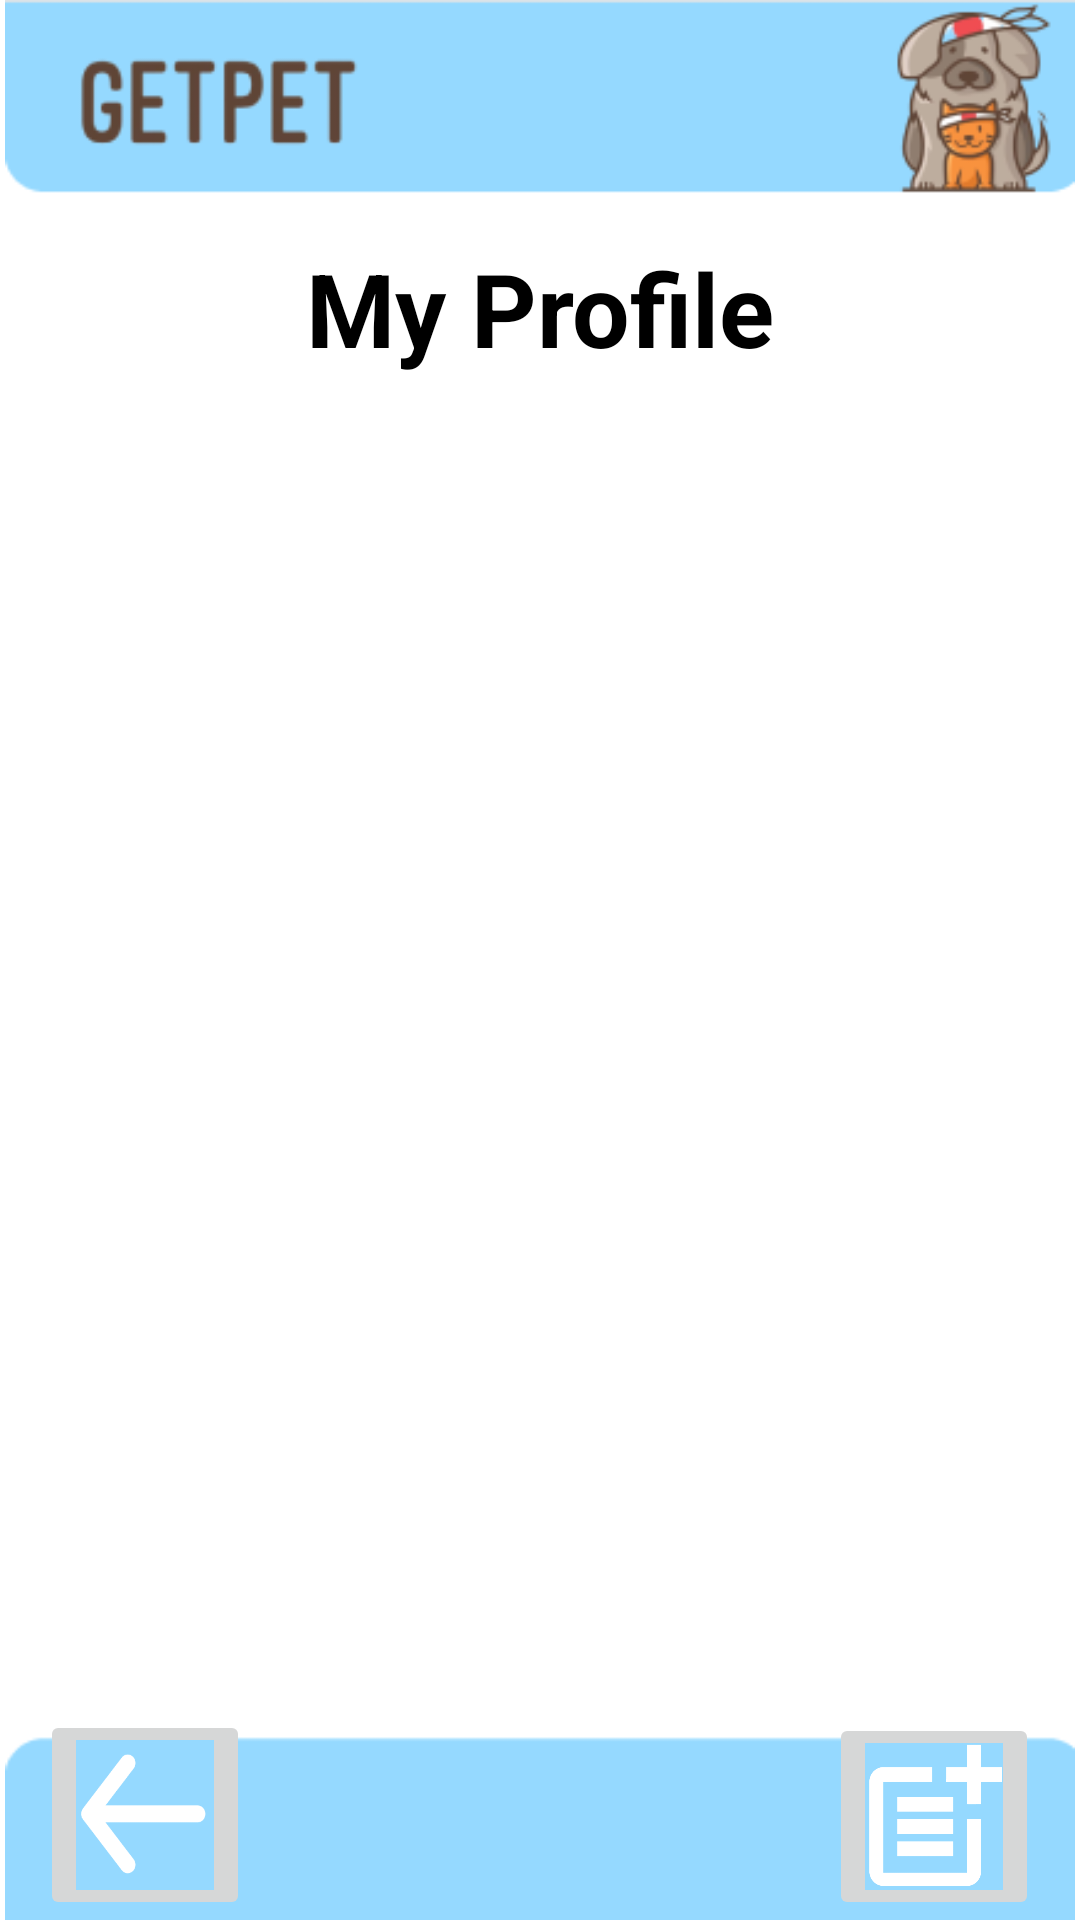

Icon click points for this 1080 × 1920 phone screenshot, format (x=x, y=y):
addpost: (x=934, y=1816)
back: (x=145, y=1815)
